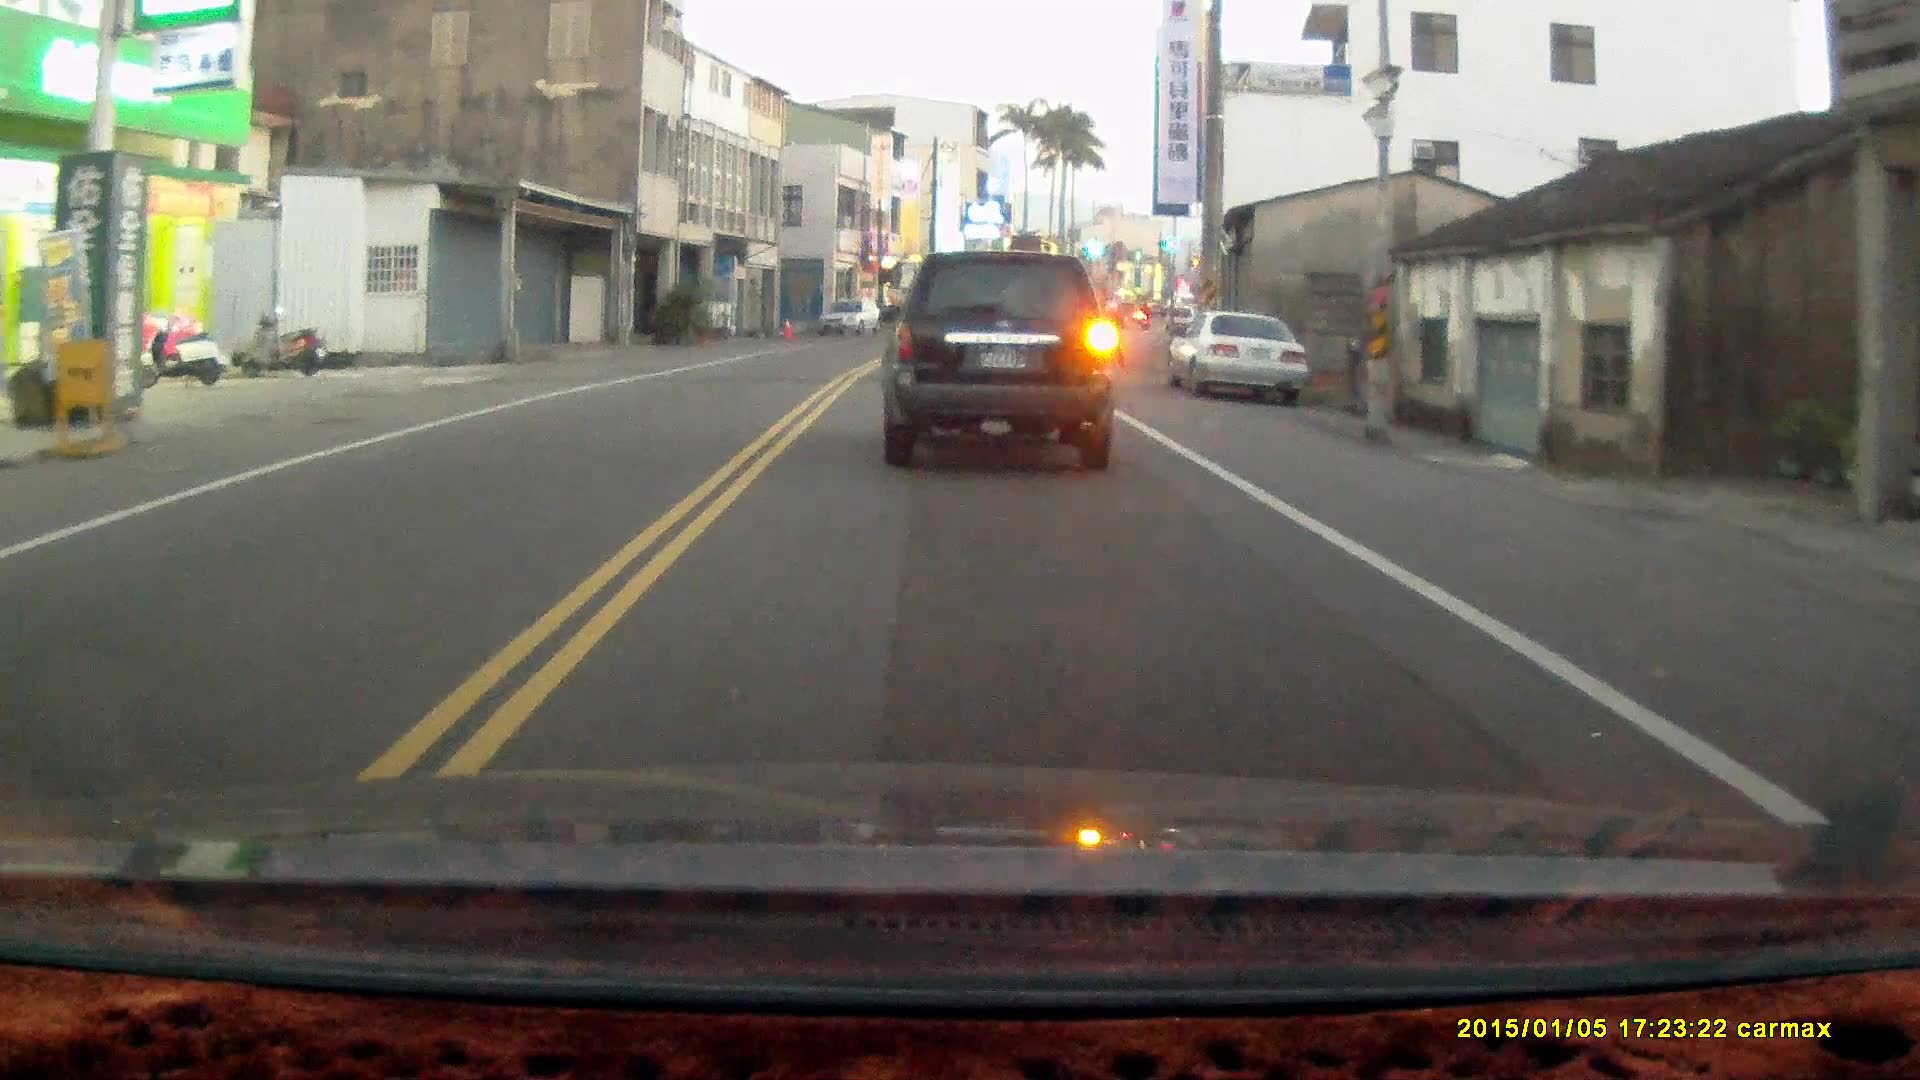rider: (1096, 297, 1126, 370)
vehicle: (881, 247, 1122, 476), (1170, 304, 1310, 400), (818, 298, 883, 343)
